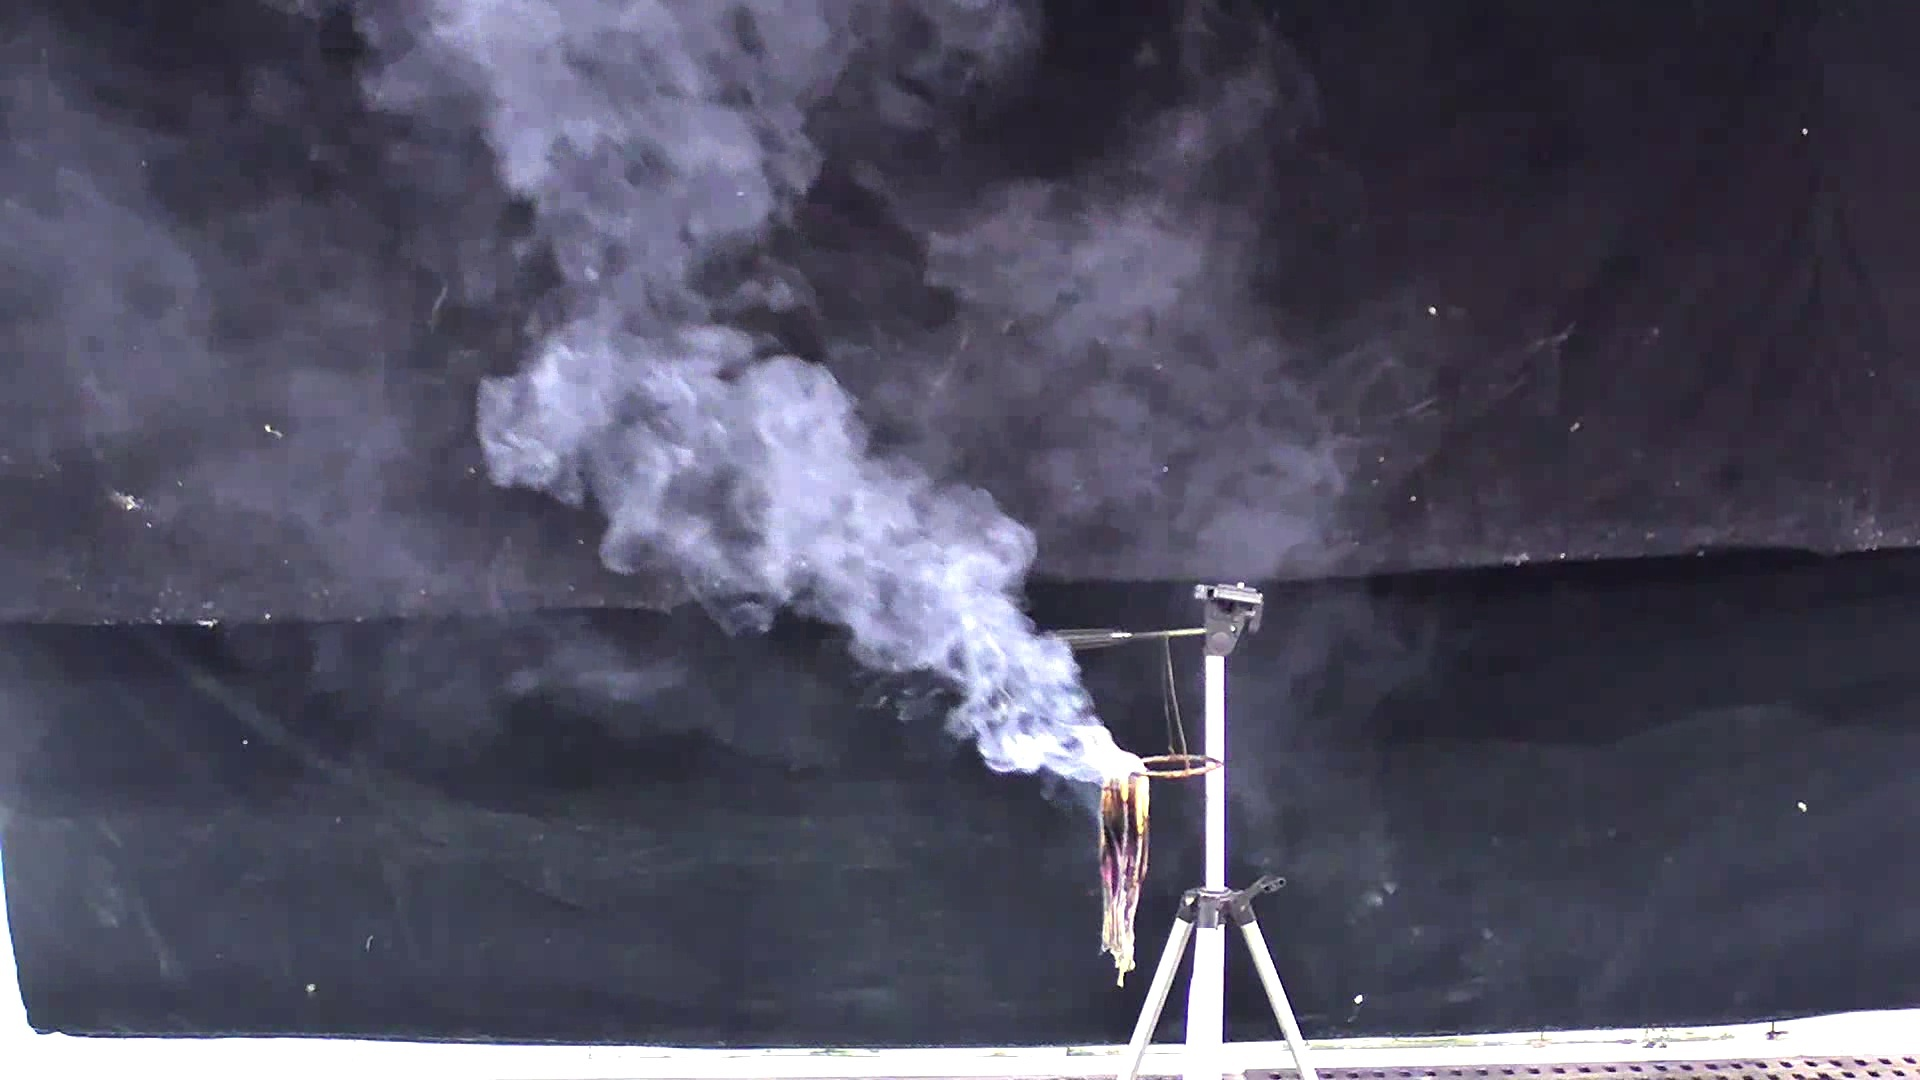smoke: (361, 13, 1182, 781)
